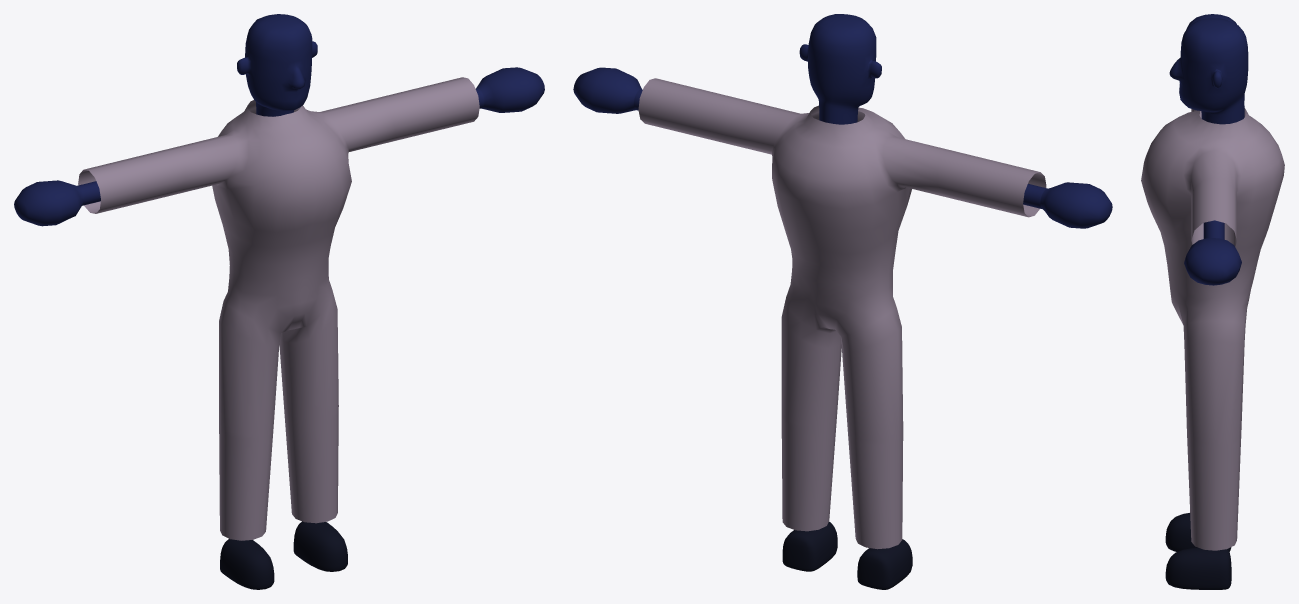
File: NPC_B.fbx
3 renders of one model, left to right at view 1: azimuth 30°, elevation 25°; view 2: azimuth 150°, elevation 25°; view 3: azimuth 270°, elevation 25°, orthographic. The views are drawn at different scales.
Visible parts, largest first — view 1: NPC_Body, NPC_Head, NPC_Hands, NPC_Shoes; view 2: NPC_Body, NPC_Head, NPC_Hands, NPC_Shoes; view 3: NPC_Body, NPC_Head, NPC_Shoes, NPC_Hands.
Boxes of the visible parts, x1,y1,x2,y2 form: NPC_Body: (78, 77, 479, 540); NPC_Head: (237, 14, 317, 116); NPC_Hands: (14, 67, 544, 226); NPC_Shoes: (220, 521, 347, 589); NPC_Body: (638, 78, 1046, 549); NPC_Head: (799, 14, 881, 124); NPC_Hands: (573, 67, 1112, 228); NPC_Shoes: (782, 521, 912, 589); NPC_Body: (1141, 108, 1284, 550); NPC_Head: (1169, 18, 1248, 124); NPC_Shoes: (1165, 513, 1231, 589); NPC_Hands: (1184, 14, 1241, 285).
Bounding box in the file's own units: 452 × 450 × 108.
